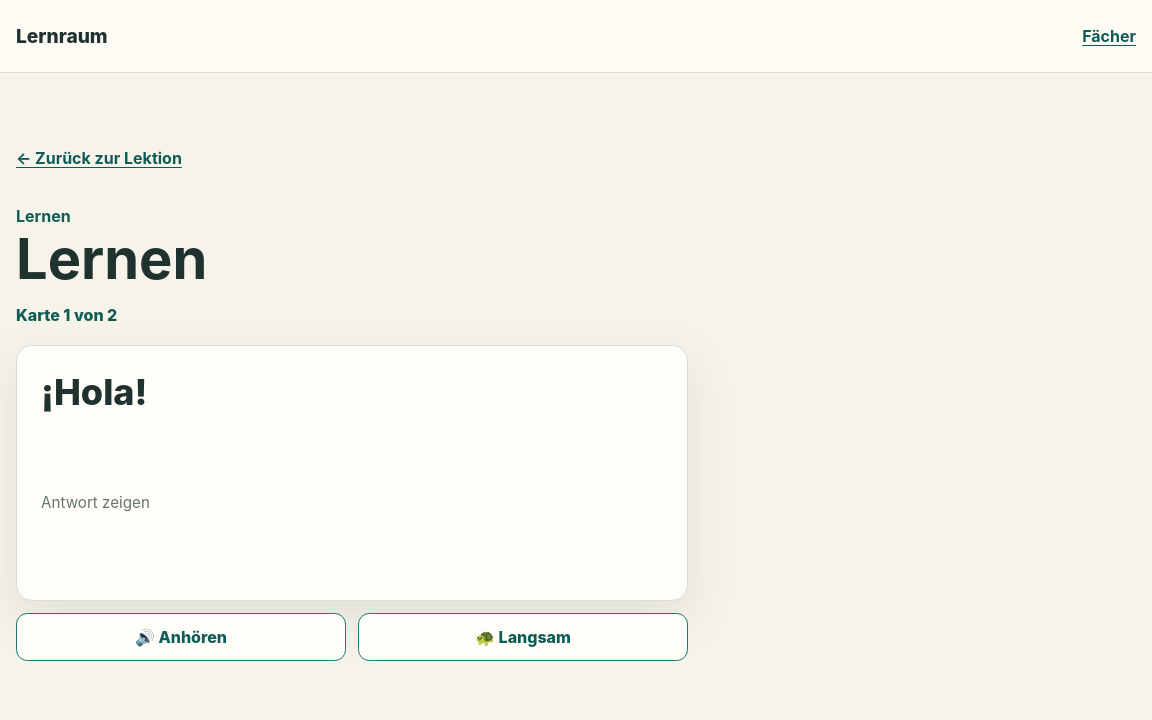
Scenario: LearnMode › rates cards for practice, clears a completed session, and reports both totals
The width and height of the screenshot is (1152, 720).
Click the button "¡Hola! Antwort zeigen". click: [352, 473]
box: [16,345,688,601]
(page scrolled)
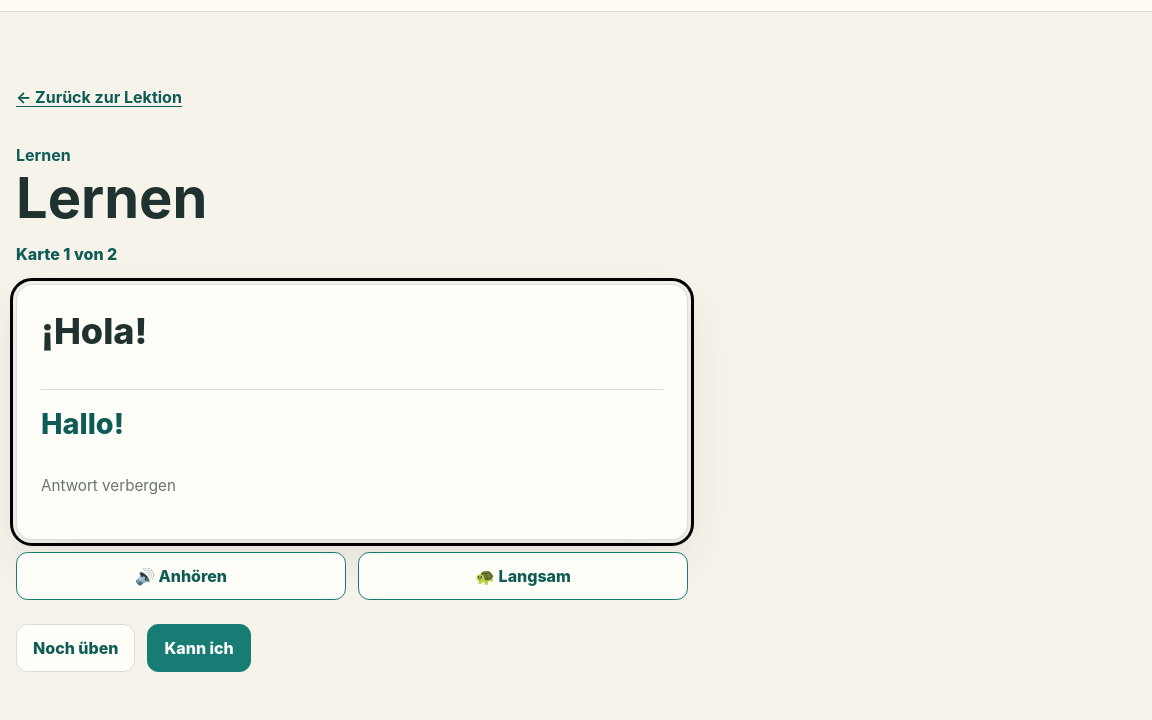
Click the button "Kann ich". click: [199, 648]
box: [148,624,251,672]
(page scrolled)
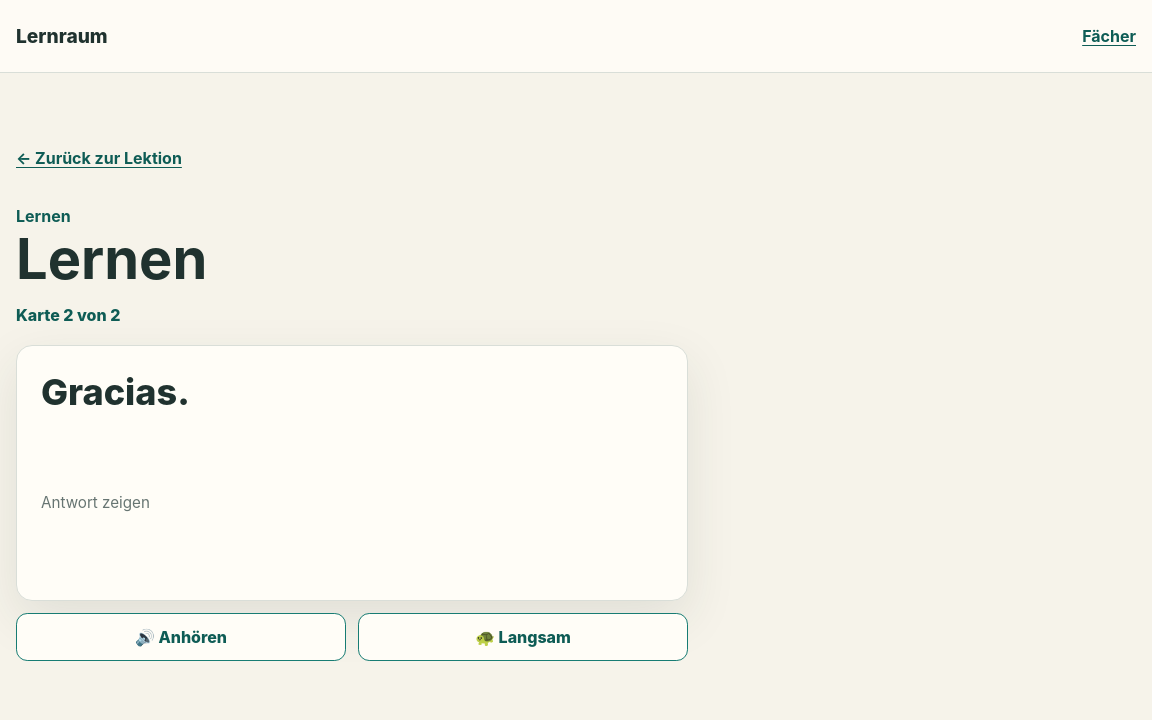
Click the button "Gracias. Antwort zeigen". click: [352, 473]
box: [16,345,688,601]
(page scrolled)
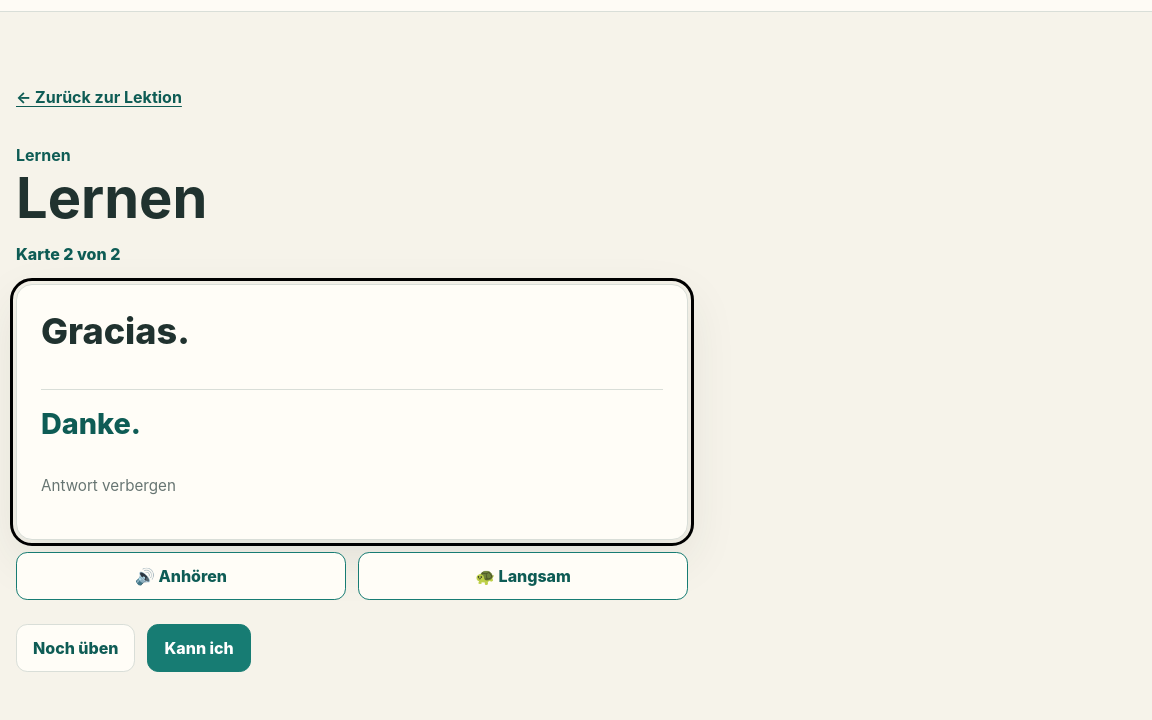
Click the button "Noch üben". click: [76, 648]
box: [16,624,136,672]
(page scrolled)
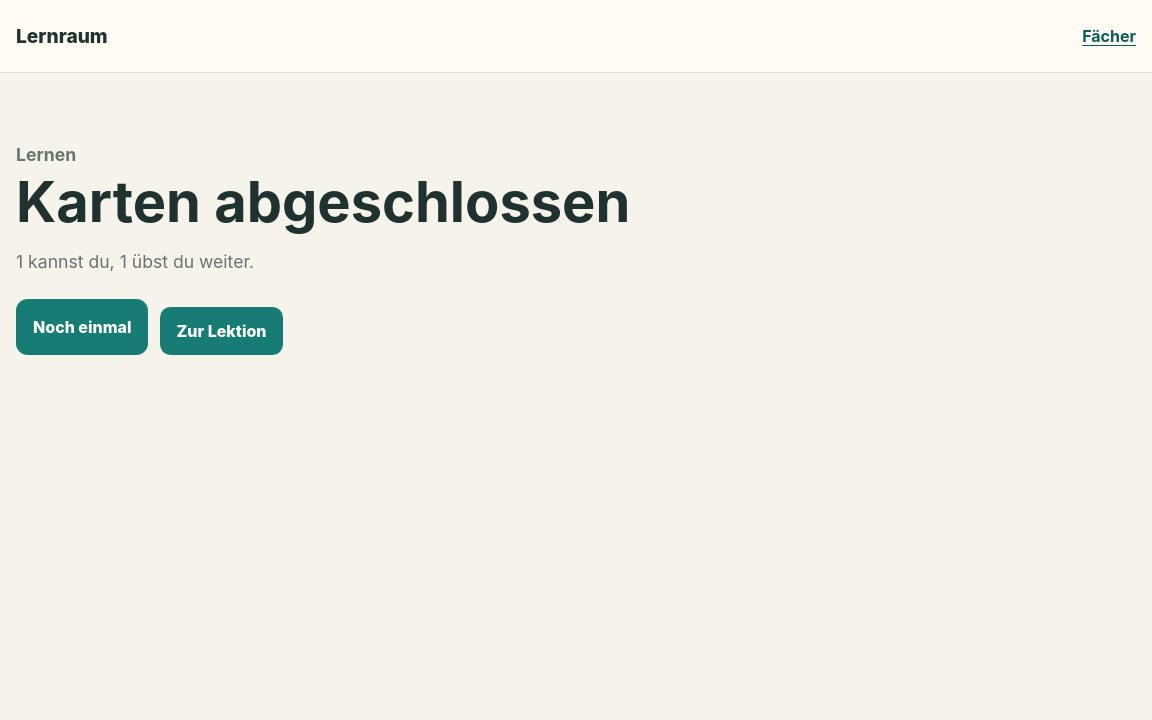
Check: the text "1 kannst du, 1 übst du weiter." is shown, box [16,251,254,272]
